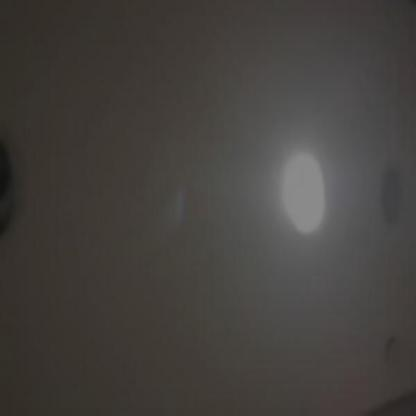light_off: (0, 118, 33, 249)
